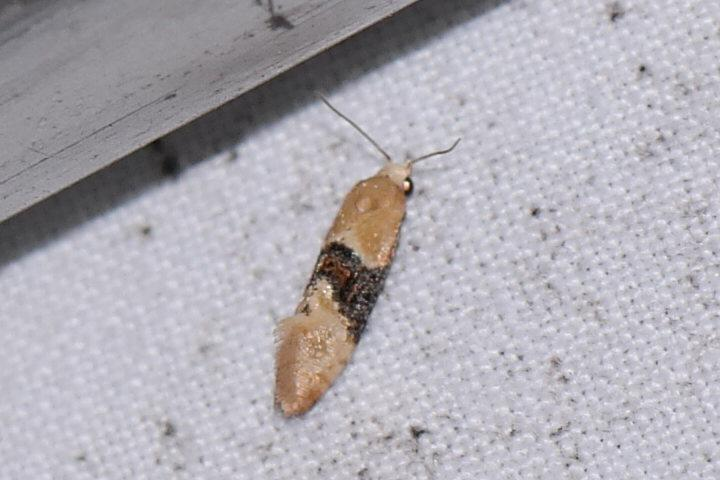Eupoecilia Ambiguella: (267, 89, 463, 421)
